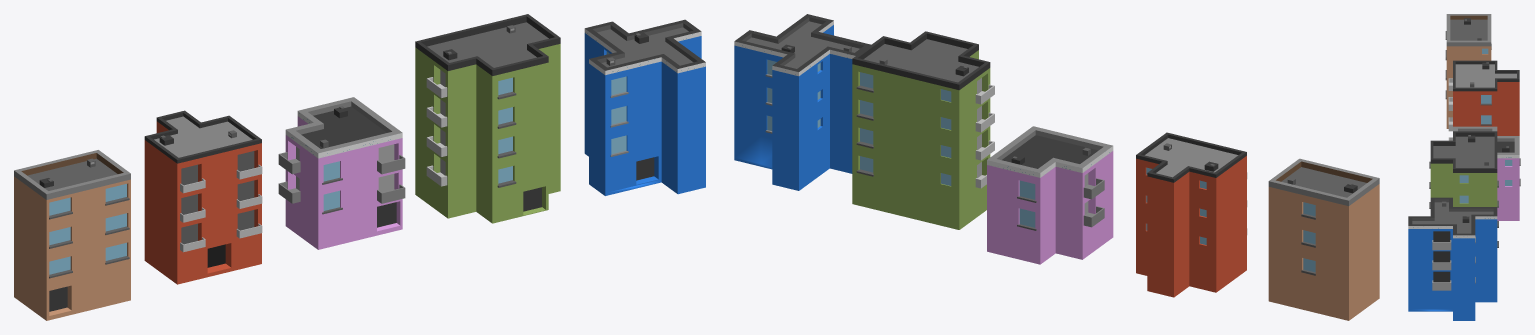
The model's file is edifi.fbx.
The picture shows the model from 3 angles, left to right: view 1: azimuth 30°, elevation 25°; view 2: azimuth 150°, elevation 25°; view 3: azimuth 270°, elevation 25°; orthographic projection. The views are drawn at different scales.
Visible parts, largest first — view 1: Apartment4, Apartment5, Apartment2, Apartment1, Apartment3; view 2: Apartment4, Apartment5, Apartment2, Apartment1, Apartment3; view 3: Apartment5, Apartment4, Apartment2, Apartment1, Apartment3.
Boxes of the visible parts, x1,y1,x2,y2 form: Apartment4: (415,14,560,223); Apartment5: (584,19,705,195); Apartment2: (144,110,262,284); Apartment1: (14,150,130,320); Apartment3: (278,97,405,249); Apartment4: (852,31,994,229); Apartment5: (734,14,870,190); Apartment2: (1136,132,1247,297); Apartment1: (1268,158,1379,320); Apartment3: (987,126,1113,264); Apartment5: (1408,197,1497,320); Apartment4: (1429,131,1498,247); Apartment2: (1448,60,1519,140); Apartment1: (1445,14,1491,128); Apartment3: (1453,126,1520,220).
Bounding box in the file's own units: 2341 × 521 × 504.
Materials: 5 (5 with a texture image).
